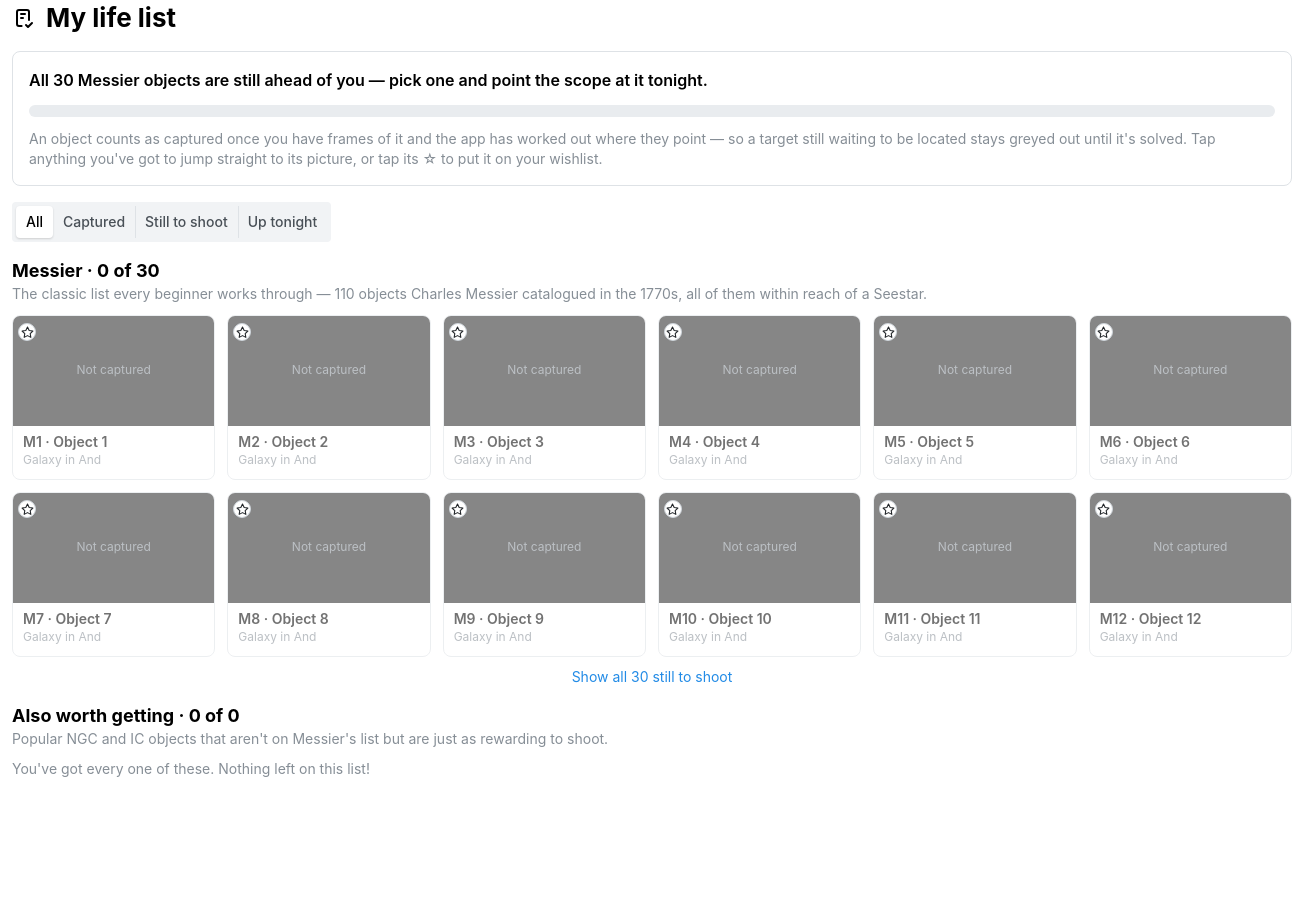
LifeListView › never shortens tonight's list either — the sky already narrowed it
Click the text "Up tonight".
click(283, 222)  # box 248,214 -> 317,230
(page scrolled)
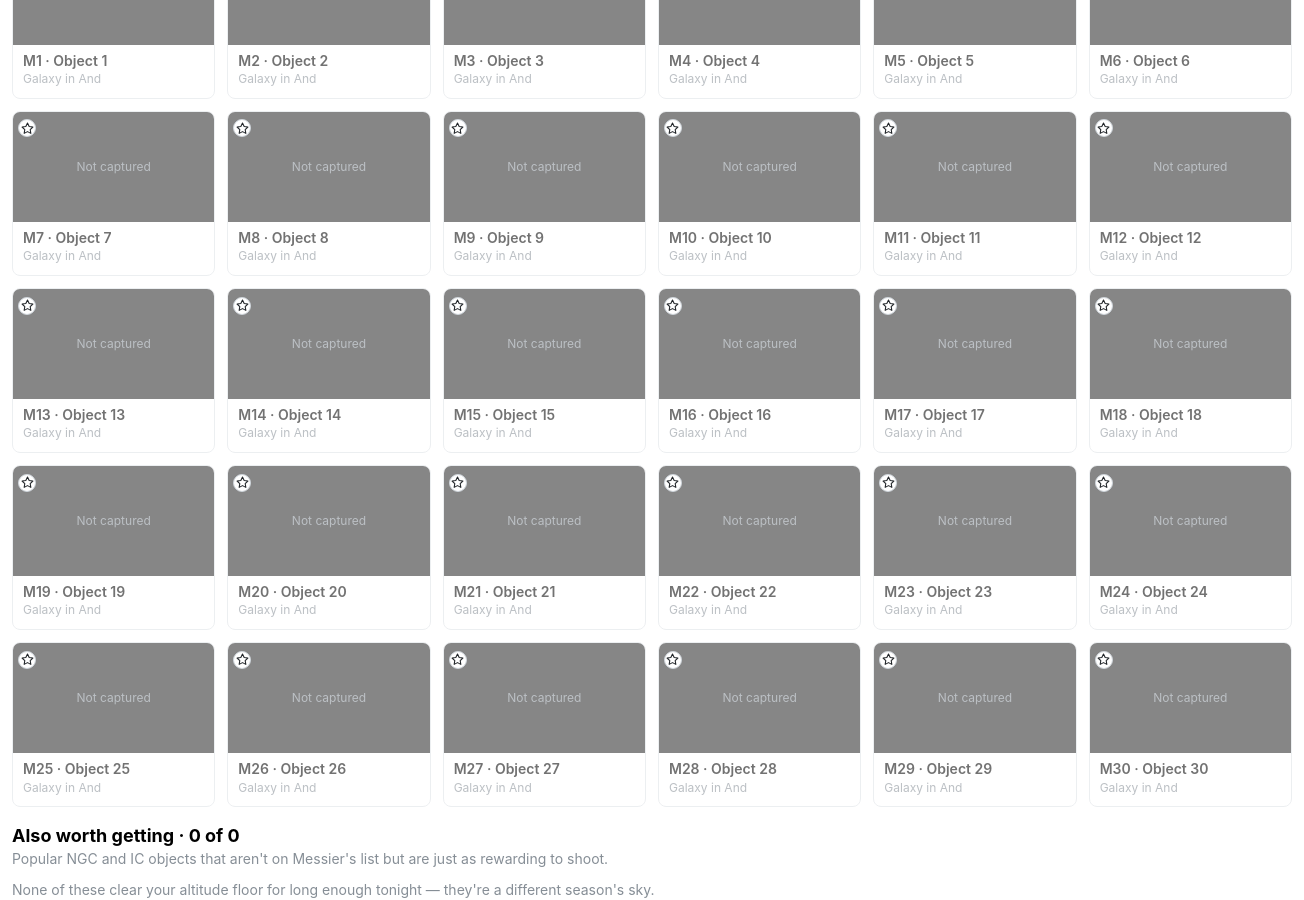
Check: the text "M30 · Object 30" is shown, box 1100,760 -> 1208,777
Check: the button "Show all 30" is gone
